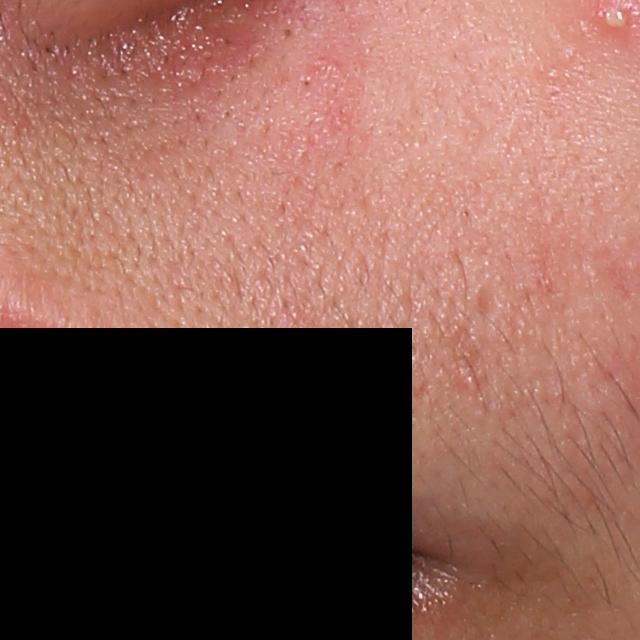atrophic_scar: (471, 284, 499, 321)
comedo: (277, 19, 295, 43)
pustule: (593, 0, 630, 42)
